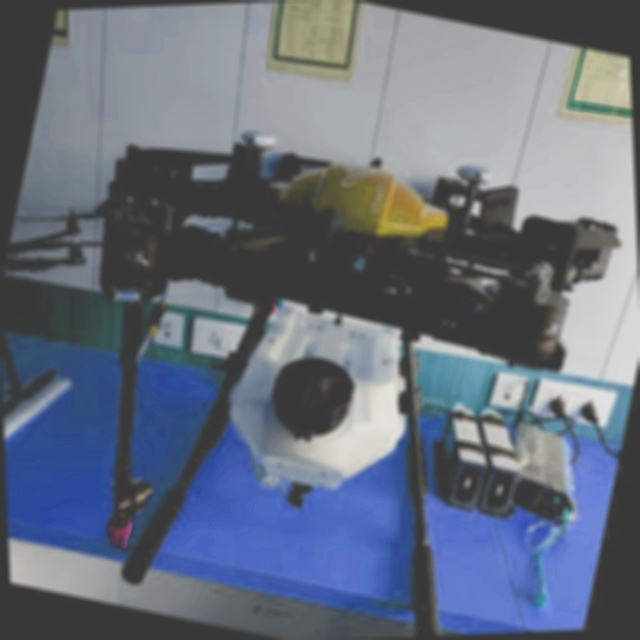agriculturedrone: (0, 66, 640, 640)
